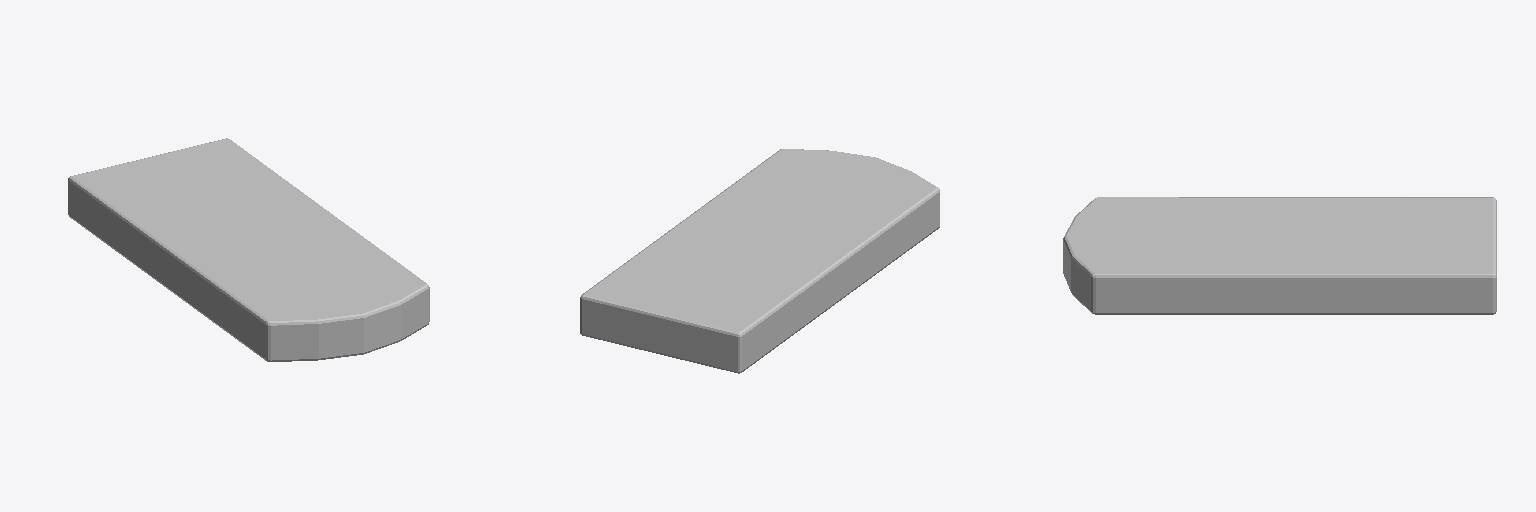
File: texture deck board.obj
3 renders of one model, left to right at view 1: azimuth 30°, elevation 25°; view 2: azimuth 150°, elevation 25°; view 3: azimuth 270°, elevation 25°, orthographic.
Visible parts, largest first — view 1: deck_piece deck_boards deck detailed_models; view 2: deck_piece deck_boards deck detailed_models; view 3: deck_piece deck_boards deck detailed_models.
Part boxes in pixels (left/top/right/bottom): deck_piece deck_boards deck detailed_models: left=68, top=138, right=429, bottom=361; deck_piece deck_boards deck detailed_models: left=580, top=149, right=939, bottom=373; deck_piece deck_boards deck detailed_models: left=1063, top=197, right=1496, bottom=314.
Size of the model in its own units: 1 by 0.2417 by 2.32.